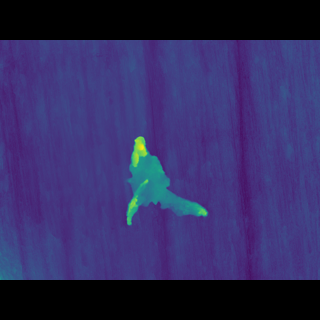Loch: (121, 140, 210, 210)
